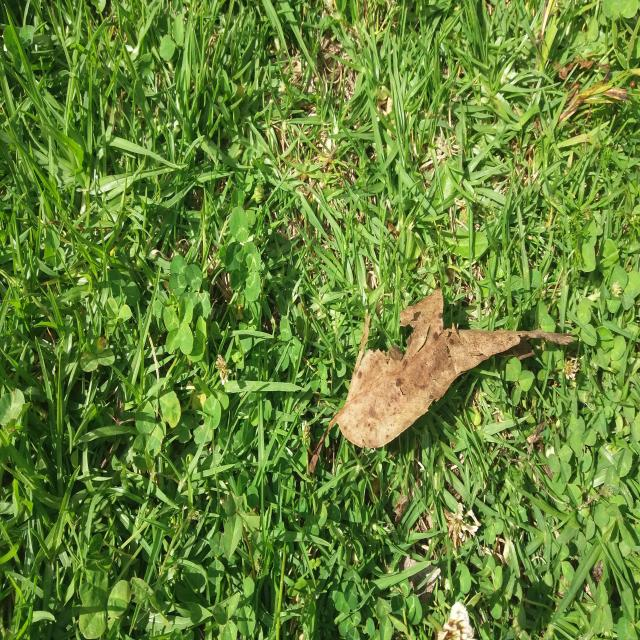Four Leaf Clover: (163, 296, 193, 355), (259, 205, 294, 253)
